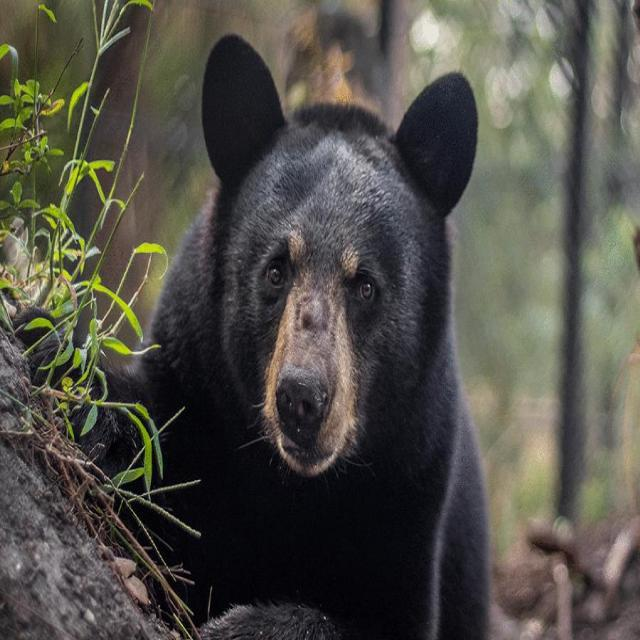Bear: (124, 37, 494, 640)
